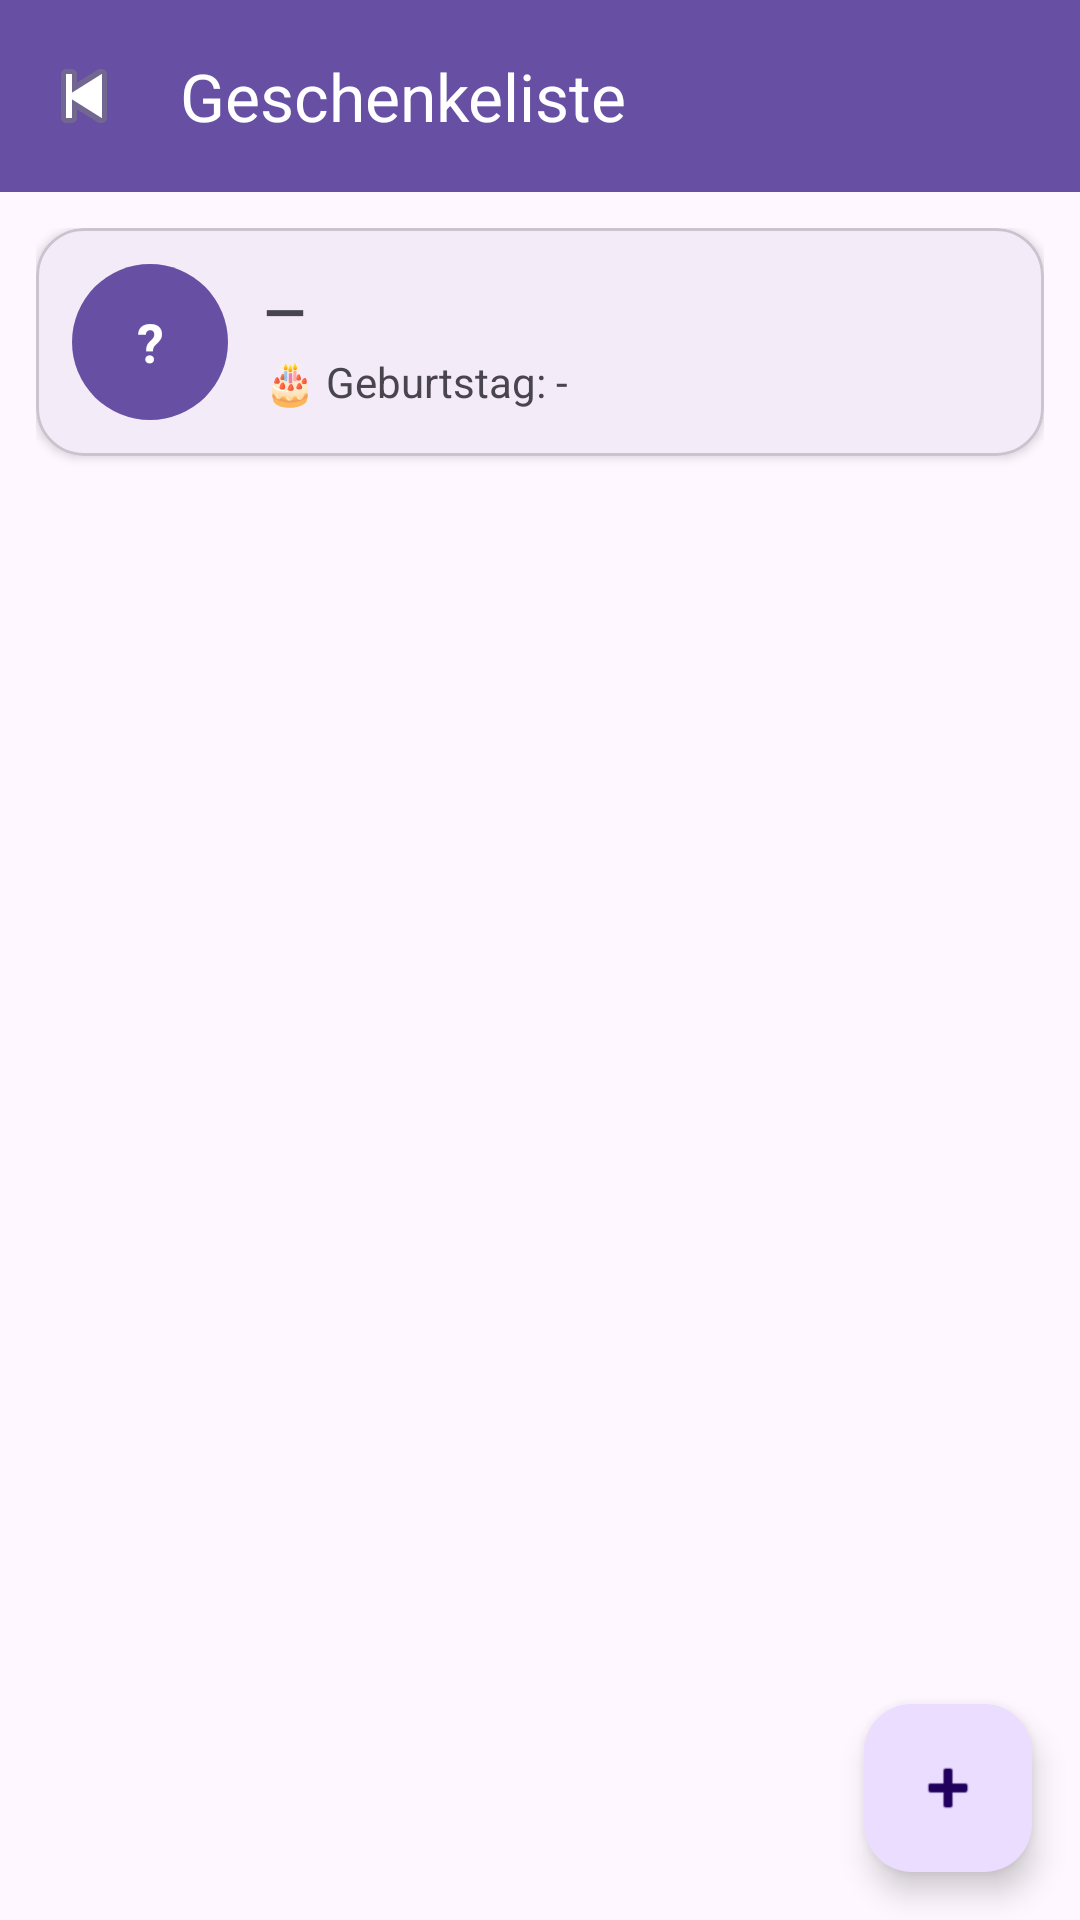

Named icons in this screenshot (1080x1920) and their centers, point (x, y):
Add gift: point (948, 1788)
